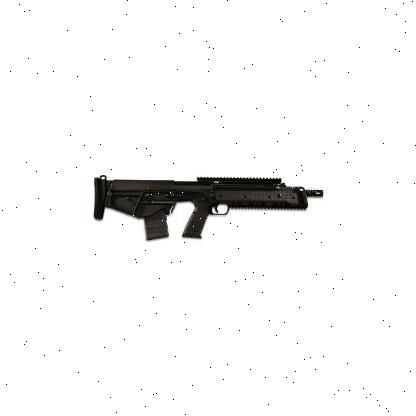gun: (90, 175, 328, 241)
